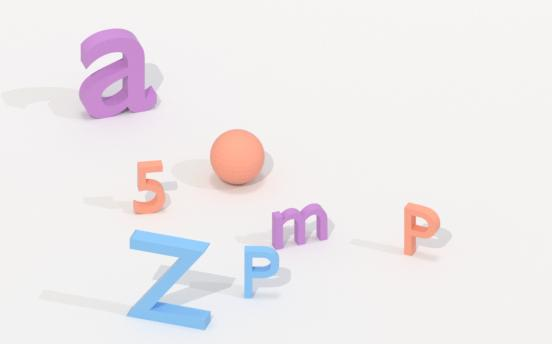5: (134, 157, 169, 218)
a: (77, 25, 160, 125)
cau: (206, 123, 269, 192)
m: (265, 204, 335, 250)
p: (399, 196, 443, 271), (239, 238, 283, 305)
z: (125, 224, 215, 335)
